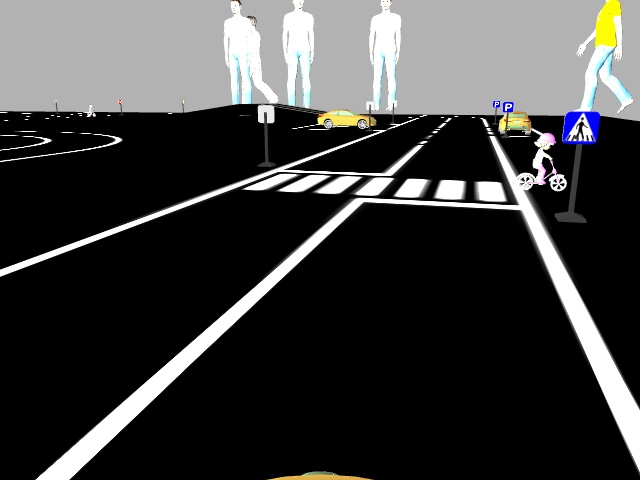Crosswalk: (562, 111, 599, 144)
Parking: (501, 101, 513, 113), (491, 98, 500, 108)
Pedestrian: (511, 132, 568, 193)
